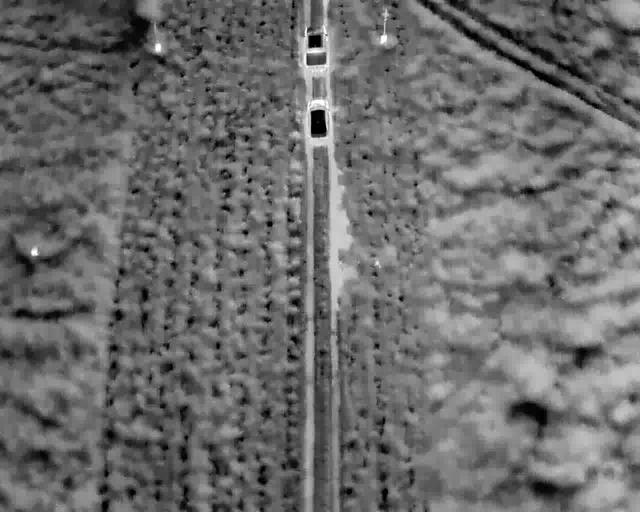car: (301, 22, 330, 70), (306, 97, 331, 139)
